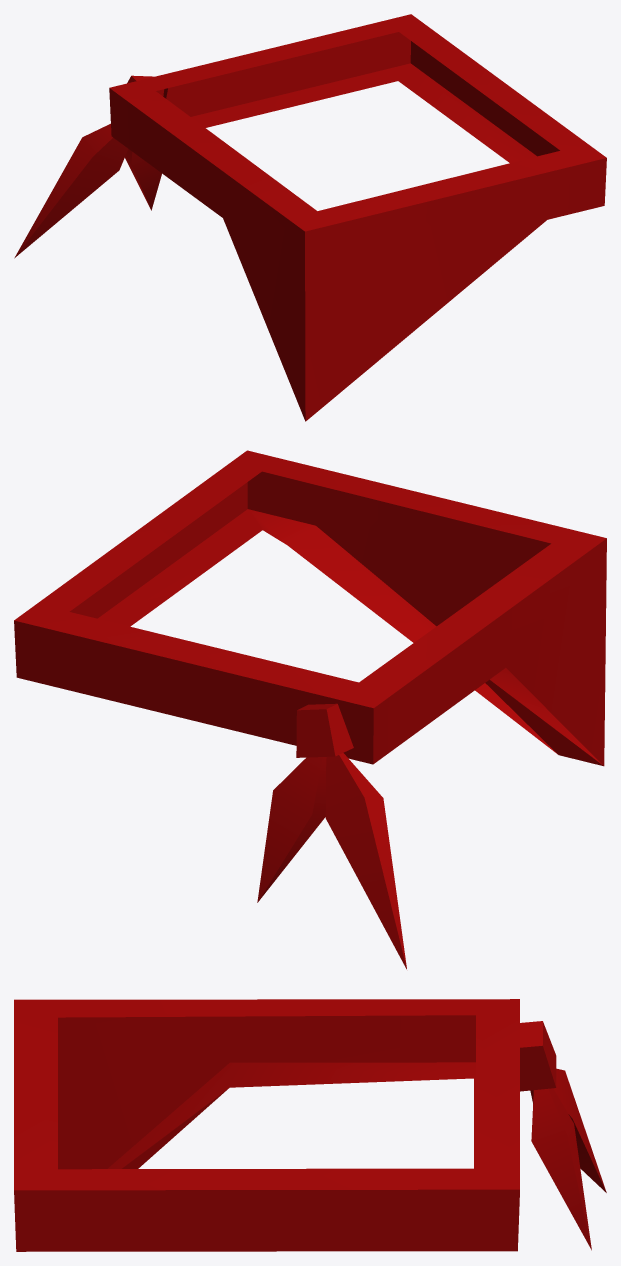
The model's file is Eye Patch 02.FBX.
The picture shows the model from 3 angles, top to bottom: view 1: azimuth 30°, elevation 25°; view 2: azimuth 150°, elevation 25°; view 3: azimuth 270°, elevation 25°; orthographic projection. The views are drawn at different scales.
Visible parts, largest first — view 1: Eye Patch 02; view 2: Eye Patch 02; view 3: Eye Patch 02.
Boxes of the visible parts, <box> form: Eye Patch 02: <box>14,14,606,421</box>; Eye Patch 02: <box>14,450,606,969</box>; Eye Patch 02: <box>14,999,606,1251</box>.
Bounding box in the file's own units: 65.11 × 33.14 × 71.11.
